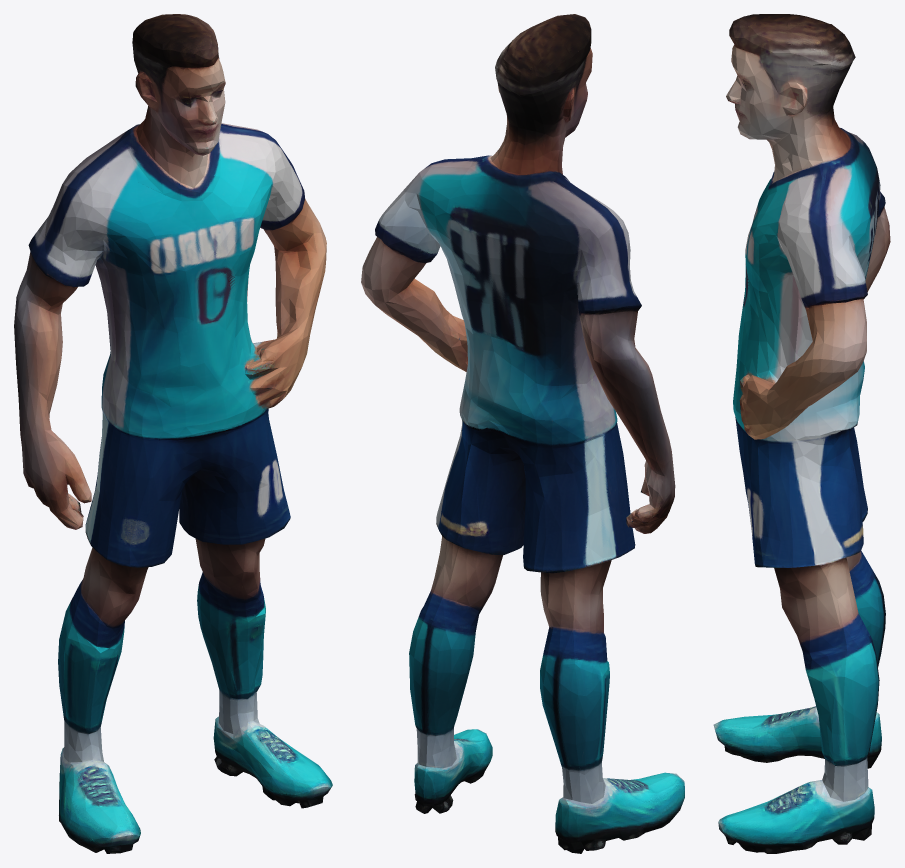
Rendered from footy10_raw.glb.
3 renders of one model, left to right at view 1: azimuth 30°, elevation 25°; view 2: azimuth 150°, elevation 25°; view 3: azimuth 270°, elevation 25°, orthographic.
Visible parts, largest first — view 1: world; view 2: world; view 3: world.
Boxes of the visible parts, box(x1,y1,x2,y2) form: world: box(14, 14, 332, 853); world: box(361, 14, 684, 853); world: box(713, 14, 890, 853).
Size of the model in its own units: 0.3999 by 0.9994 by 0.2063.
Materials: 1 (1 with a texture image).
